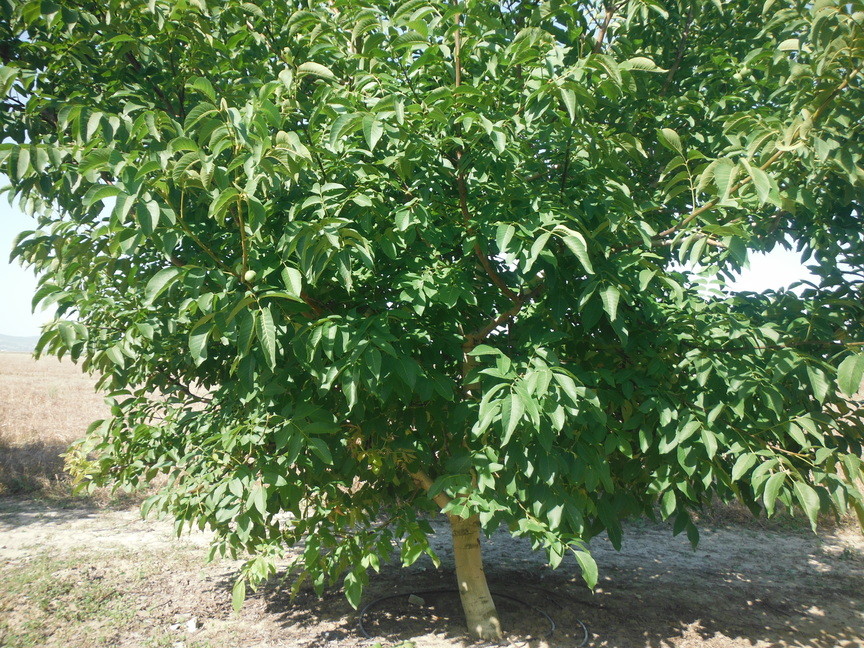walnut: (233, 262, 250, 275), (244, 270, 259, 283), (740, 64, 755, 77), (728, 71, 743, 84), (668, 372, 682, 385), (661, 380, 674, 393), (767, 161, 778, 173), (776, 159, 786, 172), (224, 424, 234, 432)
